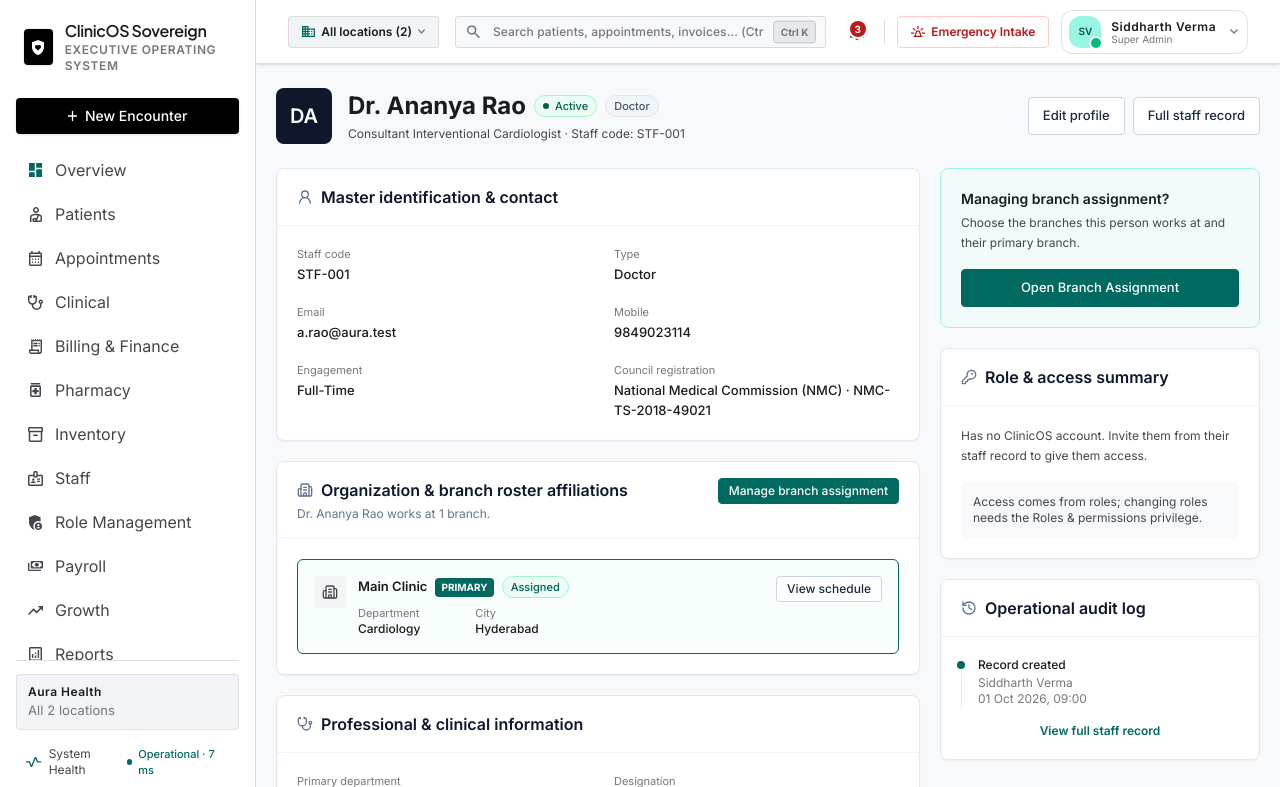
Test case: staff profile page › shows the person, their branches and history, and changes their branch assignment
Expected: the heading "Dr. Ananya Rao" is shown, [348,90,526,122]
Expected: the text "Record created" is shown, [978,656,1066,672]
Click the button "Manage branch assignment" at (808, 491), box [718,478,899,504]
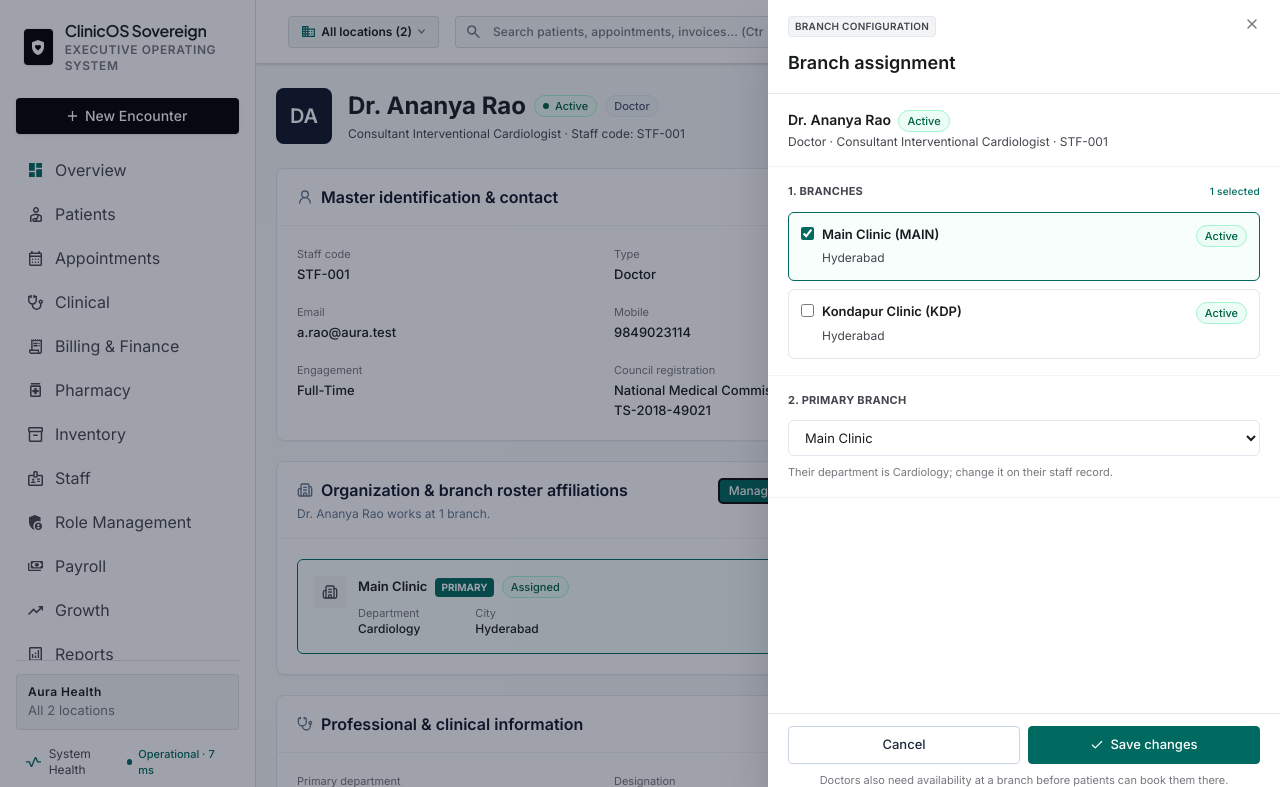
Click the checkbox labelled "Kondapur Clinic" at (808, 310), box [801,304,814,317]
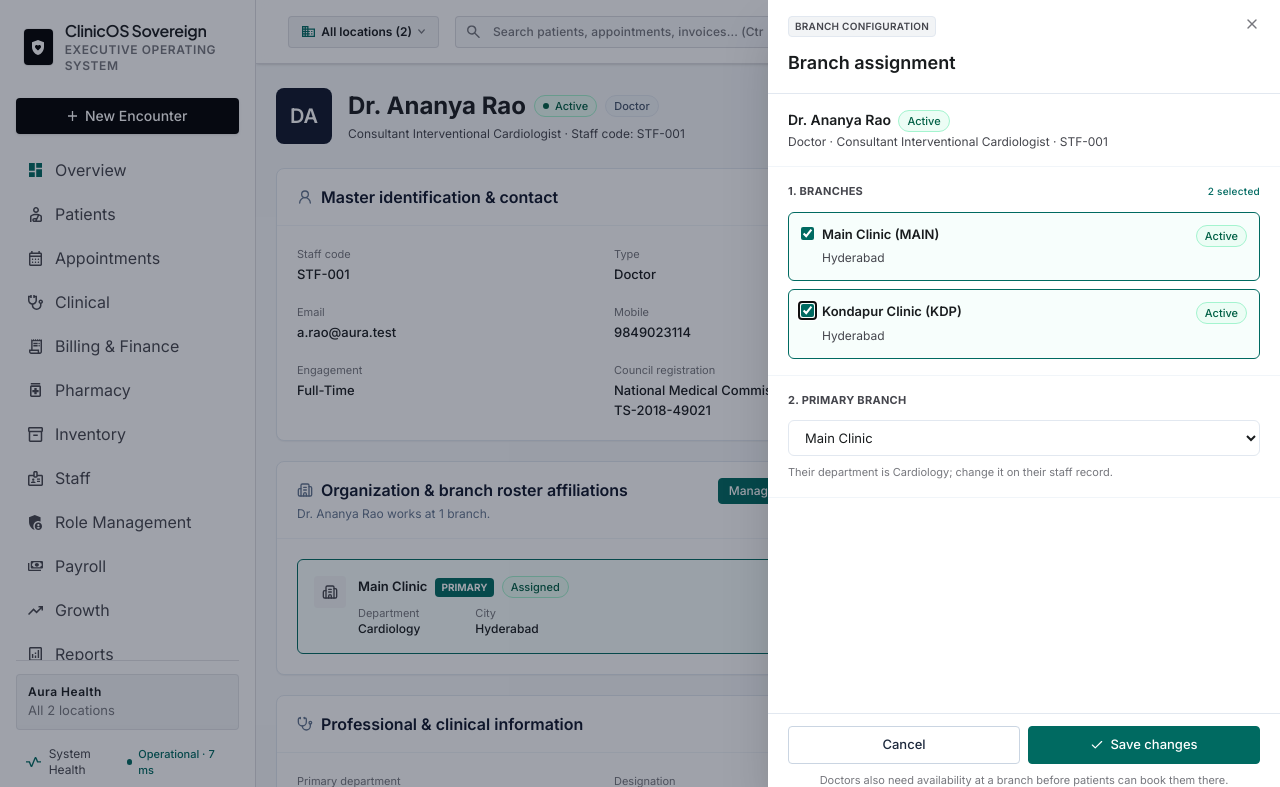
Click the button "Save changes" at (1144, 745), box [1028,726,1260,764]
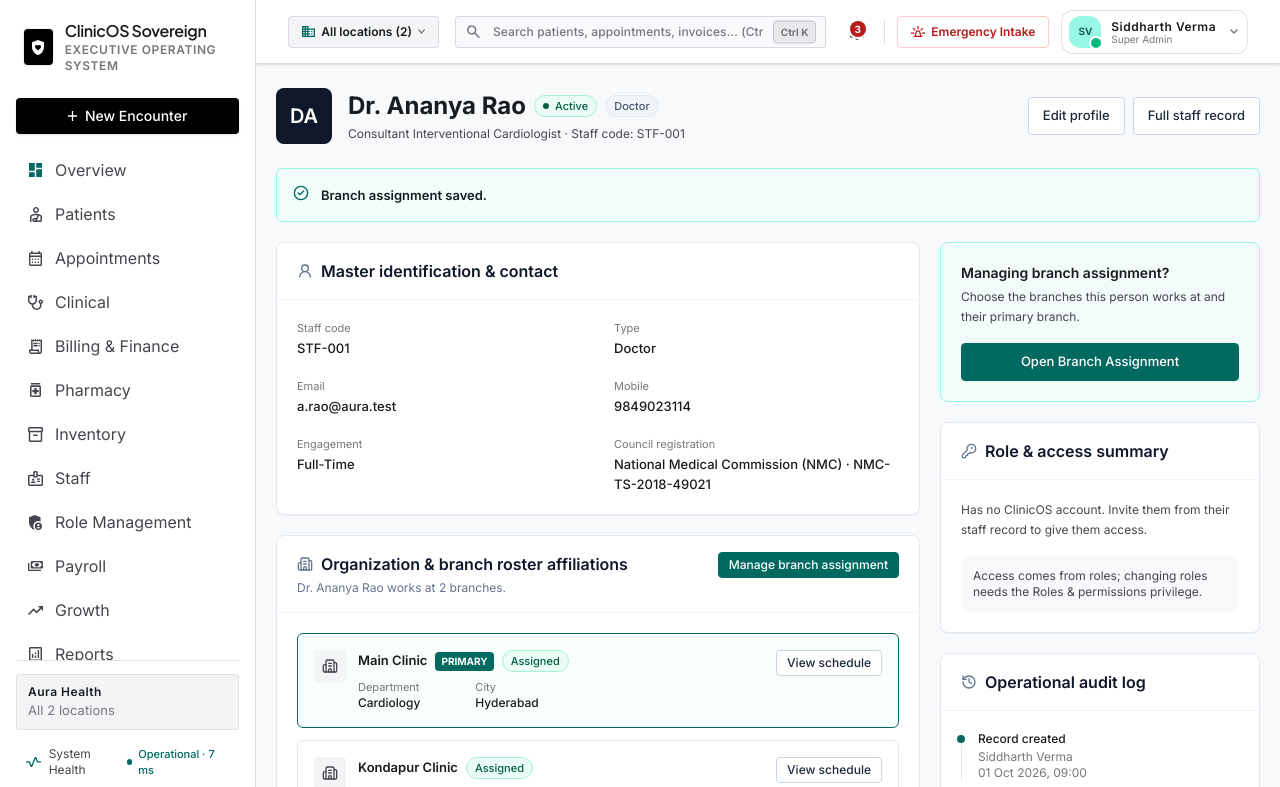
Expected: the text "Branch assignment saved." is shown, [321,187,487,203]
